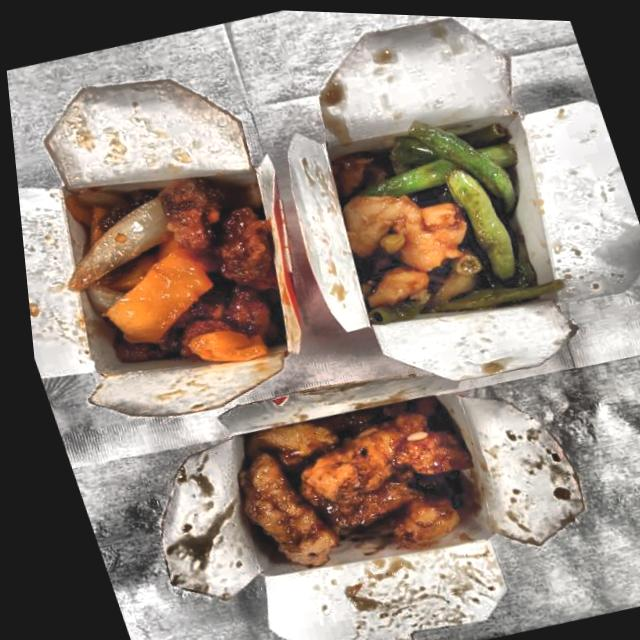Food: (41, 145, 313, 395), (307, 93, 568, 335), (207, 377, 484, 585)
